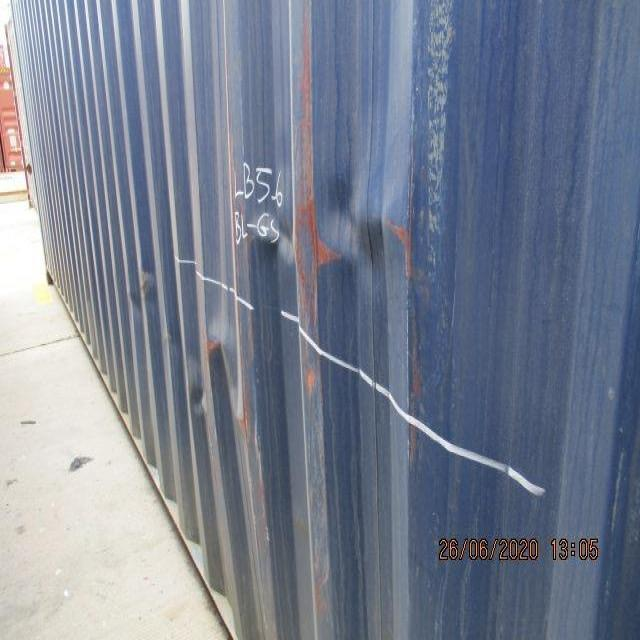Dent: (175, 127, 461, 487)
